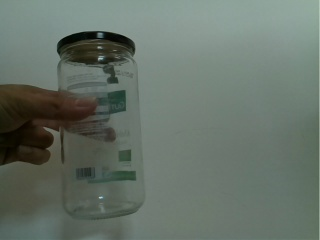pote cristal: (55, 29, 150, 224)
